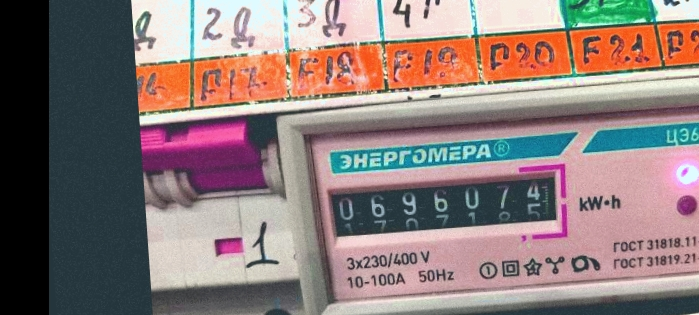0: (336, 194, 357, 220), (463, 183, 481, 210)
4: (524, 178, 542, 201)
5: (526, 200, 543, 221)
6: (431, 185, 450, 213), (368, 191, 388, 217)
7: (495, 182, 512, 209)
9: (400, 188, 417, 215)
screen: (317, 159, 575, 257)
